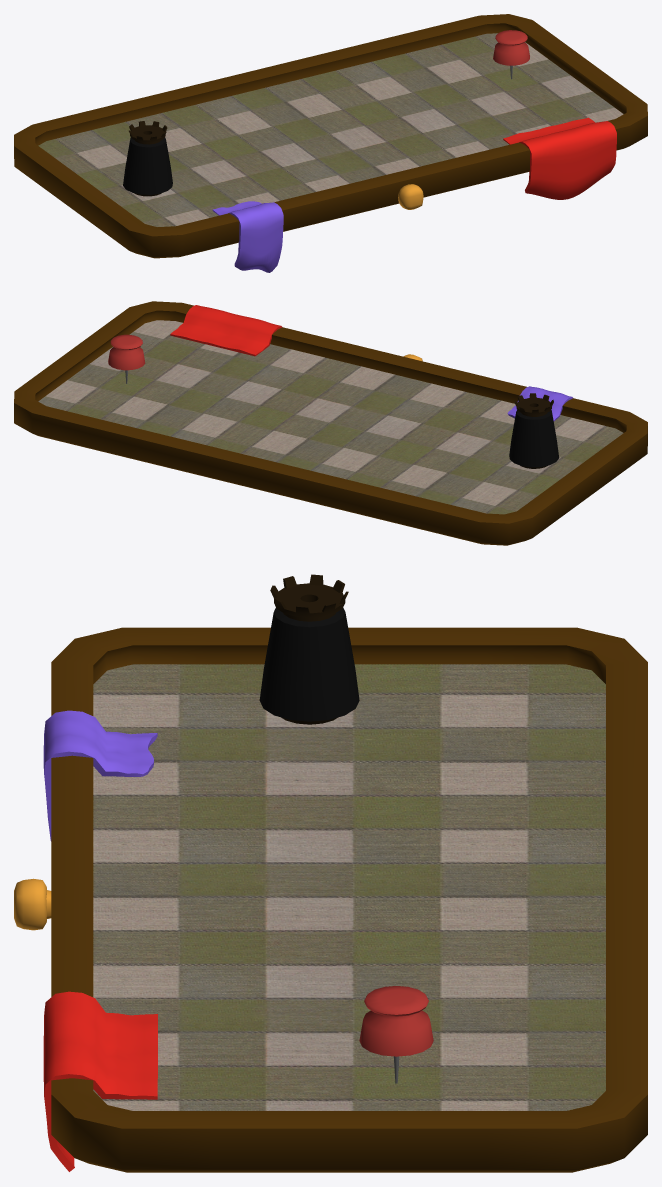
Rendered from Level.8.fbx.
The picture shows the model from 3 angles, top to bottom: view 1: azimuth 30°, elevation 25°; view 2: azimuth 150°, elevation 25°; view 3: azimuth 270°, elevation 25°; orthographic projection. The views are drawn at different scales.
Visible parts, largest first — view 1: Level.8, RoloDeLinha, Tachinha; view 2: Level.8, RoloDeLinha, Tachinha; view 3: Level.8, RoloDeLinha, Tachinha.
Boxes of the visible parts, x1,y1,x2,y2 form: Level.8: (14,14,647,272); RoloDeLinha: (123,121,172,196); Tachinha: (493,30,529,79); Level.8: (14,301,647,545); RoloDeLinha: (509,393,559,468); Tachinha: (108,334,145,383); Level.8: (14,627,647,1172); RoloDeLinha: (259,574,359,724); Tachinha: (359,986,433,1083).
Size of the model in its own units: 4980 by 1049 by 2664.
